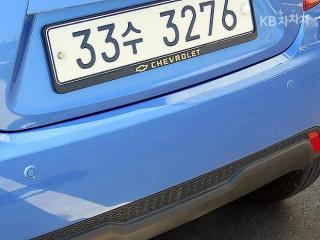2: (179, 2, 200, 42)
3: (69, 27, 97, 70), (96, 21, 121, 62), (157, 8, 180, 48)
6: (219, 1, 240, 30)
7: (199, 1, 217, 37)
수: (120, 18, 146, 55)
